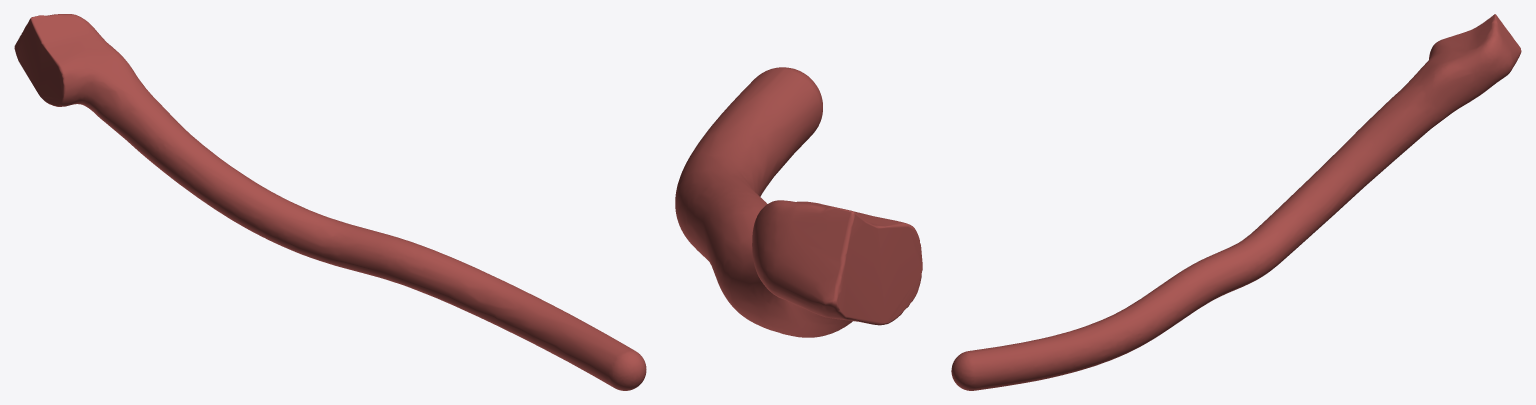
The model's file is FMA50878.glb.
The picture shows the model from 3 angles, left to right: view 1: azimuth 30°, elevation 25°; view 2: azimuth 150°, elevation 25°; view 3: azimuth 270°, elevation 25°; orthographic projection. The views are drawn at different scales.
Parts seen in each view (by area): view 1: FMA50878; view 2: FMA50878; view 3: FMA50878.
Part boxes in pixels (left/top/right/bottom): FMA50878: left=14, top=14, right=646, bottom=390; FMA50878: left=675, top=67, right=922, bottom=337; FMA50878: left=951, top=14, right=1521, bottom=390.
Size of the model in its own units: 0.0302 by 0.0209 by 0.0468.
